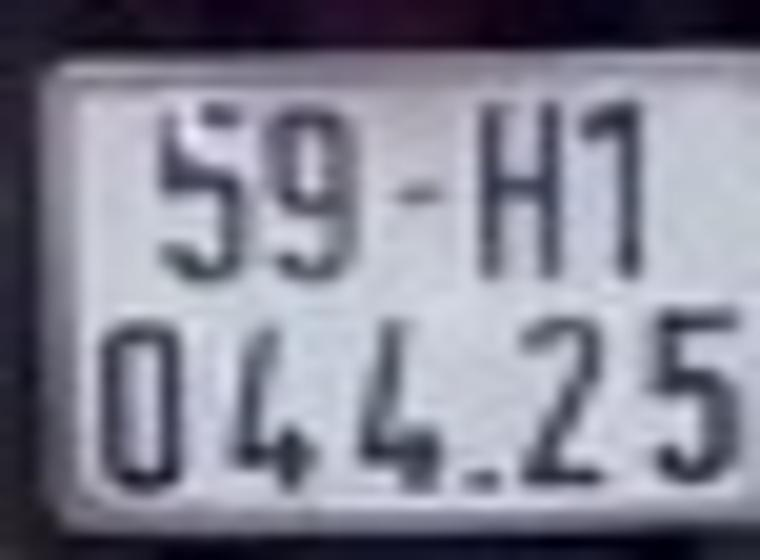-: (393, 182, 437, 200)
.: (471, 468, 500, 490)
0: (97, 317, 185, 493)
1: (581, 94, 644, 280)
2: (520, 315, 604, 485)
4: (230, 319, 321, 496), (355, 320, 440, 496)
5: (156, 107, 247, 282), (651, 306, 745, 475)
9: (263, 105, 361, 282)
H: (473, 99, 563, 279)
